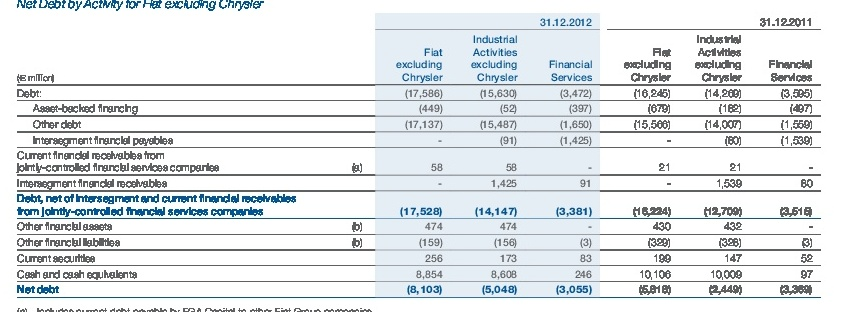table: (0, 0, 843, 312)
